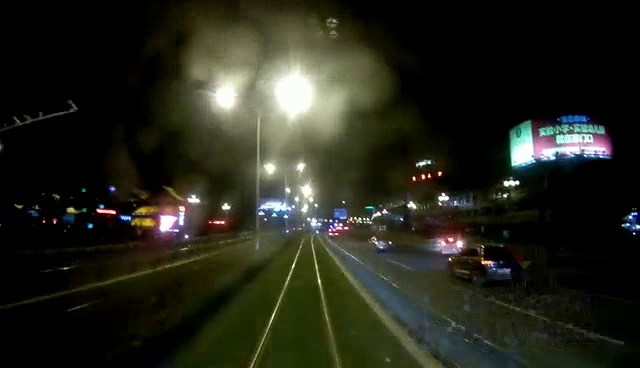car: (450, 245, 520, 285), (436, 235, 470, 256), (369, 231, 394, 255)
